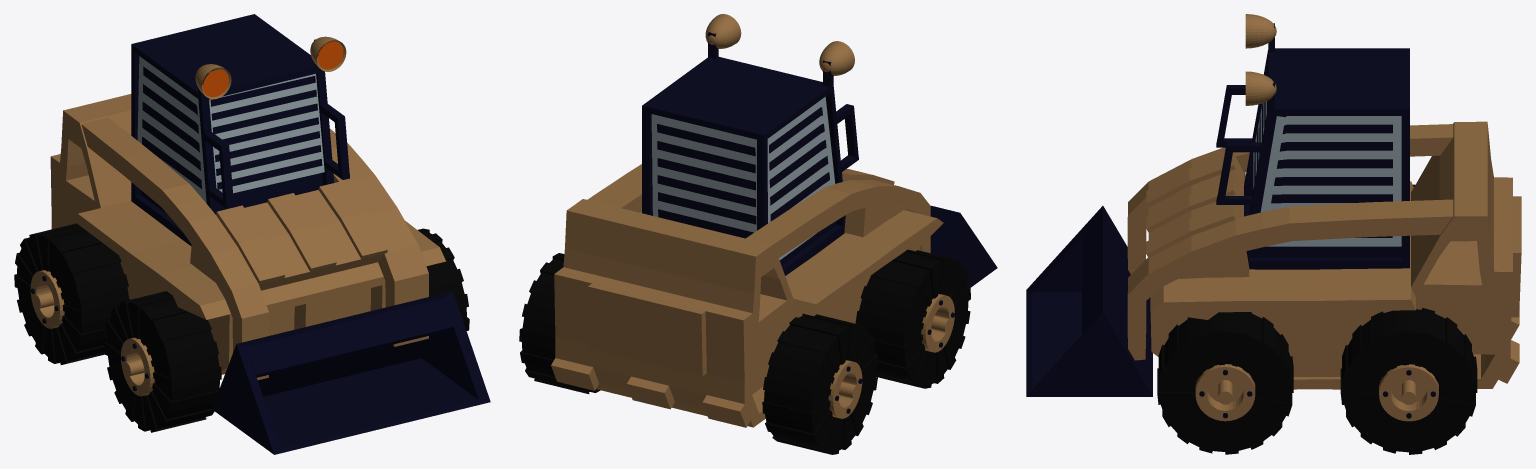
File: Engineers.dae
3 views of the same model, side by side, from view 1: azimuth 30°, elevation 25°; view 2: azimuth 150°, elevation 25°; view 3: azimuth 270°, elevation 25° (orthographic). The views are drawn at different scales.
Visible parts, largest first — view 1: Plane, Cube_001, Plane_001, Cube, Circle_001, Circle, Plane_003, Plane_002, Plane_004, Circle_002, Cylinder_009, Cylinder (+4 smaller); view 2: Cube, Cube_001, Circle, Circle_001, Plane_001, Plane_005, Circle_003, Plane_004, Plane, Cylinder, Cylinder_009, Plane_002 (+2 smaller); view 3: Cube, Cube_001, Plane, Plane_002, Circle_003, Circle_002, Plane_001, Plane_006, Cylinder_010, Cylinder_019, Sphere, Sphere_001.
Boxes of the visible parts, bbox=[...] form: Plane: bbox=[212, 291, 490, 454]; Cube_001: bbox=[131, 14, 349, 246]; Plane_001: bbox=[81, 117, 387, 380]; Cube: bbox=[50, 94, 446, 374]; Circle_001: bbox=[104, 291, 221, 432]; Circle: bbox=[14, 223, 130, 364]; Plane_003: bbox=[209, 73, 324, 193]; Plane_002: bbox=[329, 128, 428, 346]; Plane_004: bbox=[137, 56, 206, 203]; Circle_002: bbox=[418, 228, 469, 330]; Cylinder_009: bbox=[121, 337, 154, 396]; Cylinder: bbox=[30, 270, 64, 328]; Cube: bbox=[551, 199, 943, 427]; Cube_001: bbox=[642, 32, 858, 275]; Circle: bbox=[762, 313, 878, 454]; Circle_001: bbox=[855, 249, 970, 388]; Plane_001: bbox=[746, 169, 930, 257]; Plane_005: bbox=[651, 114, 756, 232]; Circle_003: bbox=[519, 253, 600, 393]; Plane_004: bbox=[767, 96, 835, 259]; Plane: bbox=[930, 205, 997, 287]; Cylinder: bbox=[828, 360, 862, 418]; Cylinder_009: bbox=[921, 294, 954, 352]; Plane_002: bbox=[587, 164, 641, 212]; Cube: bbox=[1150, 121, 1521, 389]; Cube_001: bbox=[1216, 23, 1409, 269]; Plane: bbox=[1026, 206, 1152, 396]; Plane_002: bbox=[1127, 199, 1453, 360]; Circle_003: bbox=[1340, 307, 1477, 454]; Circle_002: bbox=[1157, 311, 1293, 454]; Plane_001: bbox=[1127, 124, 1453, 274]; Plane_006: bbox=[1260, 116, 1401, 246]; Cylinder_010: bbox=[1195, 364, 1255, 421]; Cylinder_019: bbox=[1379, 364, 1438, 421]; Sphere: bbox=[1245, 14, 1276, 48]; Sphere_001: bbox=[1245, 71, 1276, 105].
Size of the model in its own units: 2.1 by 2.78 by 2.08.
